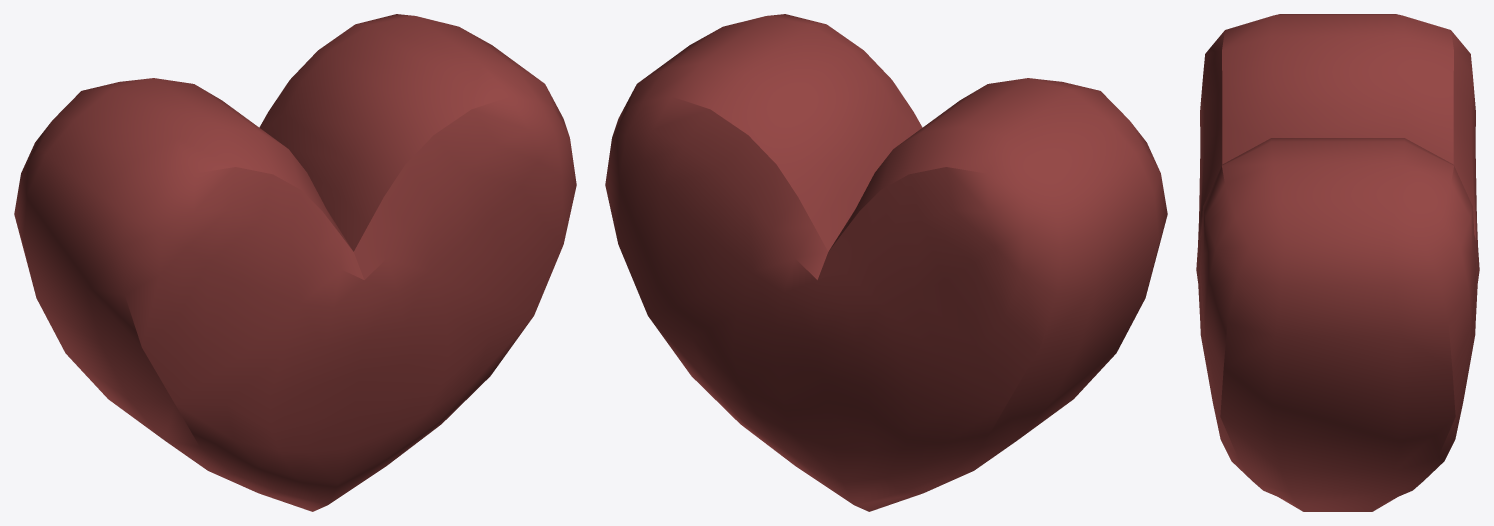
File: Heart.gltf
3 renders of one model, left to right at view 1: azimuth 30°, elevation 25°; view 2: azimuth 150°, elevation 25°; view 3: azimuth 270°, elevation 25°, orthographic.
Visible parts, largest first — view 1: Heart; view 2: Heart; view 3: Heart.
Boxes of the visible parts, x1,y1,x2,y2 form: Heart: [14, 14, 576, 511]; Heart: [605, 14, 1167, 511]; Heart: [1196, 14, 1479, 511].
Size of the model in its own units: 1.48 by 1.24 by 0.7542.
